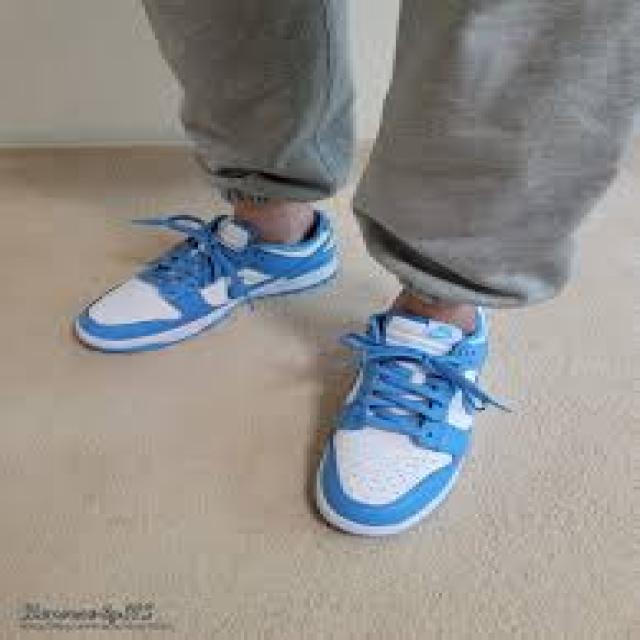shoe: (308, 285, 496, 538), (67, 199, 350, 352)
